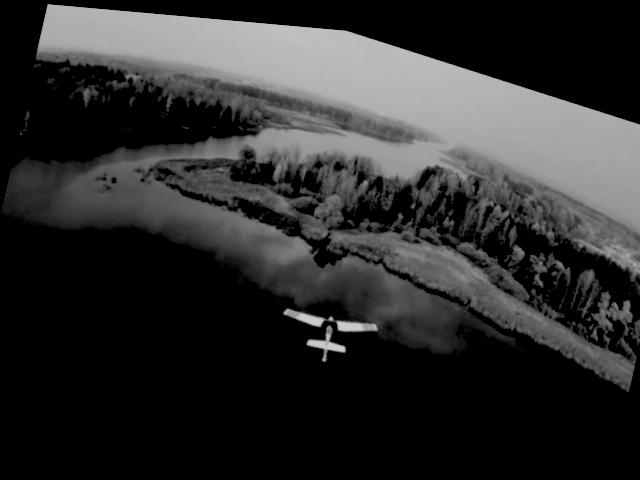hedef: (276, 285, 385, 373)
